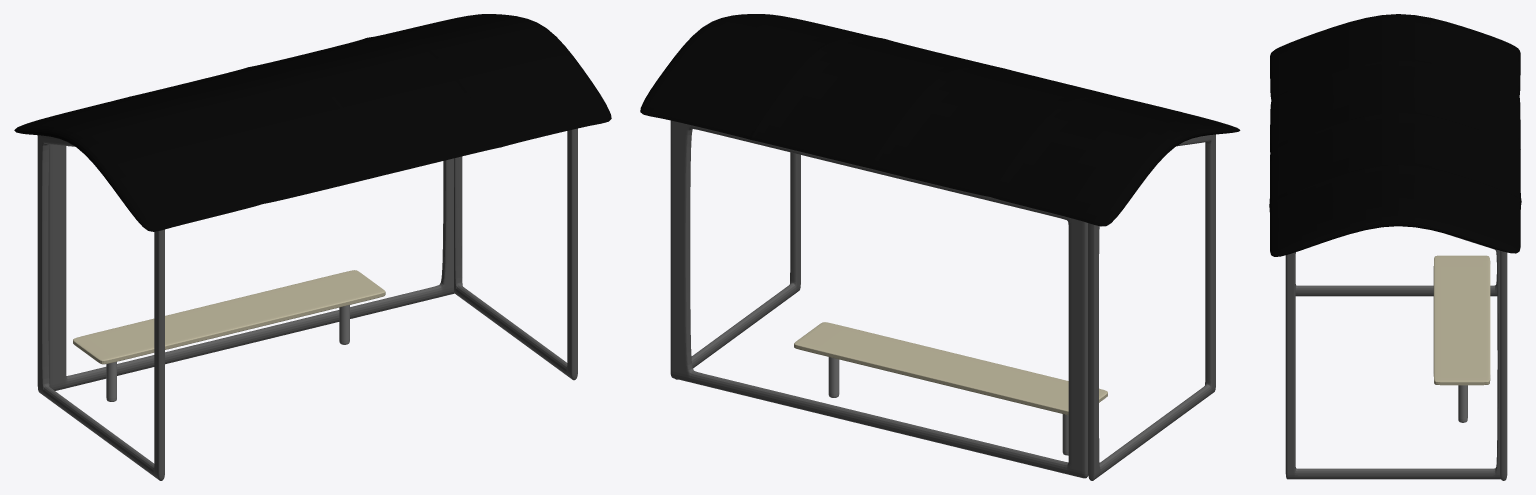
Rendered from BusStop.fbx.
3 views of the same model, side by side, from view 1: azimuth 30°, elevation 25°; view 2: azimuth 150°, elevation 25°; view 3: azimuth 270°, elevation 25° (orthographic). The views are drawn at different scales.
Visible parts, largest first — view 1: Bus_Stop_Roof, Bus_Stop_Back, Bus_Stop_Bench, Bus_Stop_Left, Bus_Stop_Right; view 2: Bus_Stop_Roof, Bus_Stop_Back, Bus_Stop_Bench, Bus_Stop_Left, Bus_Stop_Right; view 3: Bus_Stop_Roof, Bus_Stop_Bench, Bus_Stop_Right, Bus_Stop_Back, Bus_Stop_Left.
Boxes of the visible parts, x1,y1,x2,y2 form: Bus_Stop_Roof: (14,14,611,231); Bus_Stop_Back: (48,144,462,390); Bus_Stop_Bench: (73,270,385,401); Bus_Stop_Left: (37,135,164,480); Bus_Stop_Right: (454,128,577,380); Bus_Stop_Roof: (640,14,1240,226); Bus_Stop_Back: (670,120,1088,478); Bus_Stop_Bench: (794,322,1107,455); Bus_Stop_Left: (1088,134,1215,480); Bus_Stop_Right: (674,152,800,379); Bus_Stop_Roof: (1269,14,1521,256); Bus_Stop_Bench: (1433,255,1490,422); Bus_Stop_Right: (1285,233,1500,479); Bus_Stop_Back: (1500,250,1507,480); Bus_Stop_Left: (1295,274,1497,296).
Bounding box in the file's own units: 921 × 573 × 470.
